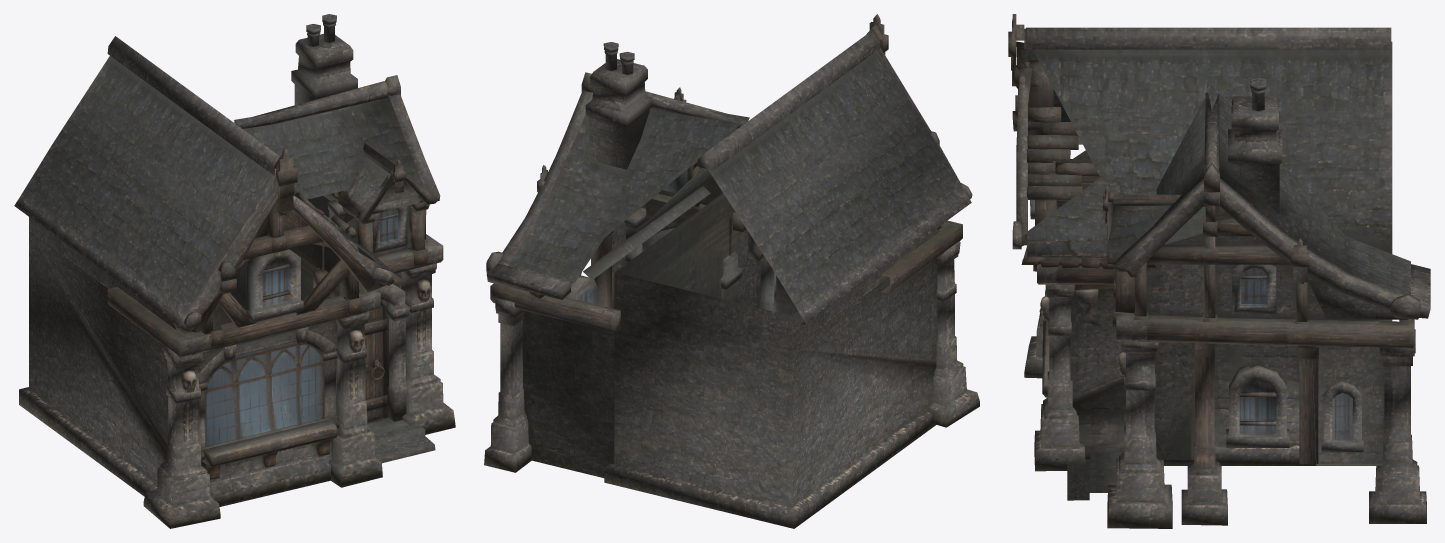
Rendered from building-wide.glb.
The picture shows the model from 3 angles, left to right: view 1: azimuth 30°, elevation 25°; view 2: azimuth 150°, elevation 25°; view 3: azimuth 270°, elevation 25°; orthographic projection. The views are drawn at different scales.
Parts seen in each view (by area): view 1: tripo_node_3299135c-93fd-4ace-a6d0-11249f14a937; view 2: tripo_node_3299135c-93fd-4ace-a6d0-11249f14a937; view 3: tripo_node_3299135c-93fd-4ace-a6d0-11249f14a937.
Part boxes in pixels (<box>): tripo_node_3299135c-93fd-4ace-a6d0-11249f14a937: <box>14,14,455,528</box>; tripo_node_3299135c-93fd-4ace-a6d0-11249f14a937: <box>484,14,979,528</box>; tripo_node_3299135c-93fd-4ace-a6d0-11249f14a937: <box>1008,14,1430,528</box>.
Size of the model in its own units: 0.9004 by 0.998 by 0.9238.
Materials: 1 (1 with a texture image).
